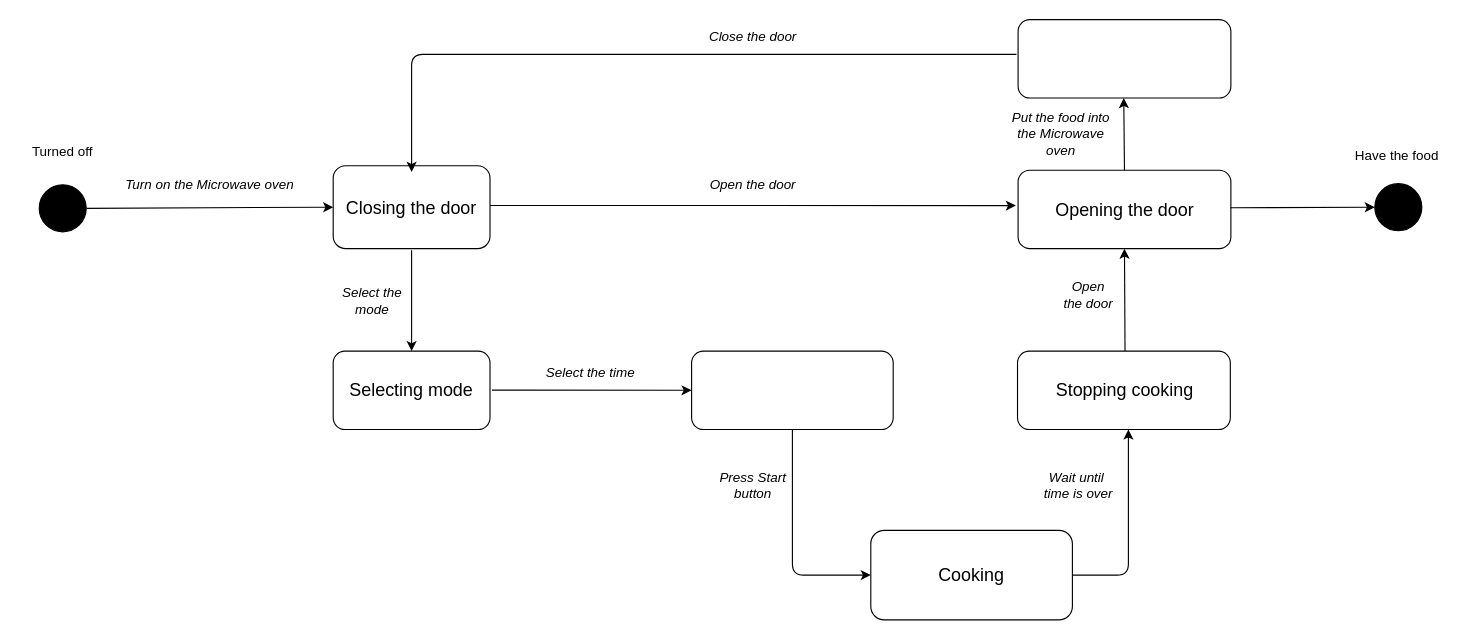
The diagram is 1460 pixels wide and 640 high, and some of its shapes have lost their labels. The shapes that lost their labels are listed below. From the top down, each one's centre as x and y in pixels, then its label:
the point at 1124,58: Putting the food inside
the point at 791,390: Selecting time
